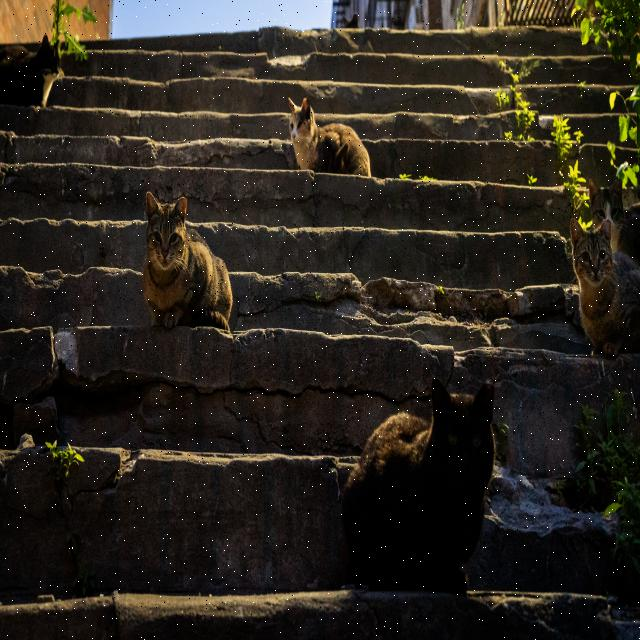cat: (342, 378, 495, 591), (142, 193, 231, 331), (571, 220, 640, 356), (290, 100, 370, 176), (0, 36, 60, 107)
